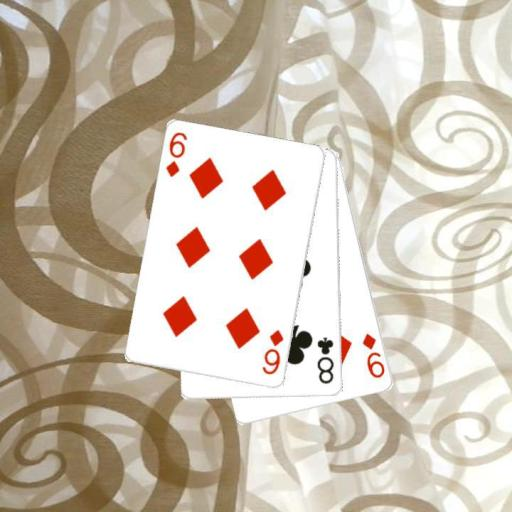6D: (259, 327, 285, 377), (163, 130, 189, 180)
8C: (314, 335, 336, 386)
9D: (359, 331, 386, 380)
